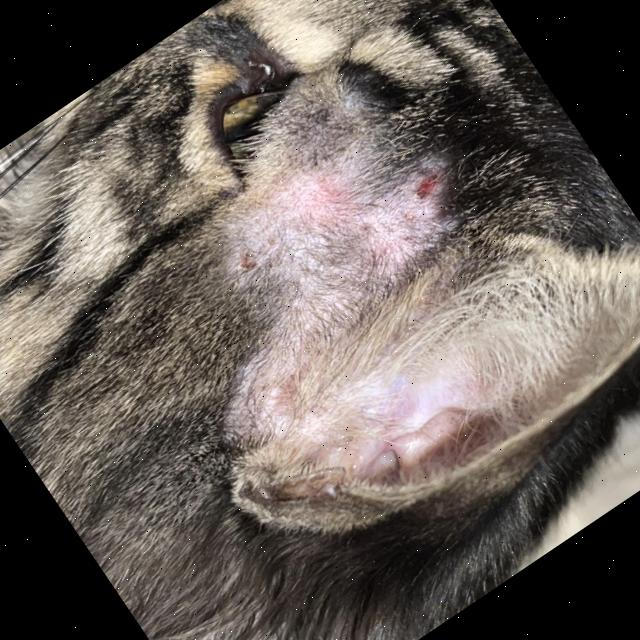cat-dermatitis: (226, 222, 298, 287), (398, 160, 458, 216)
cat-hairloss: (206, 272, 402, 444)
